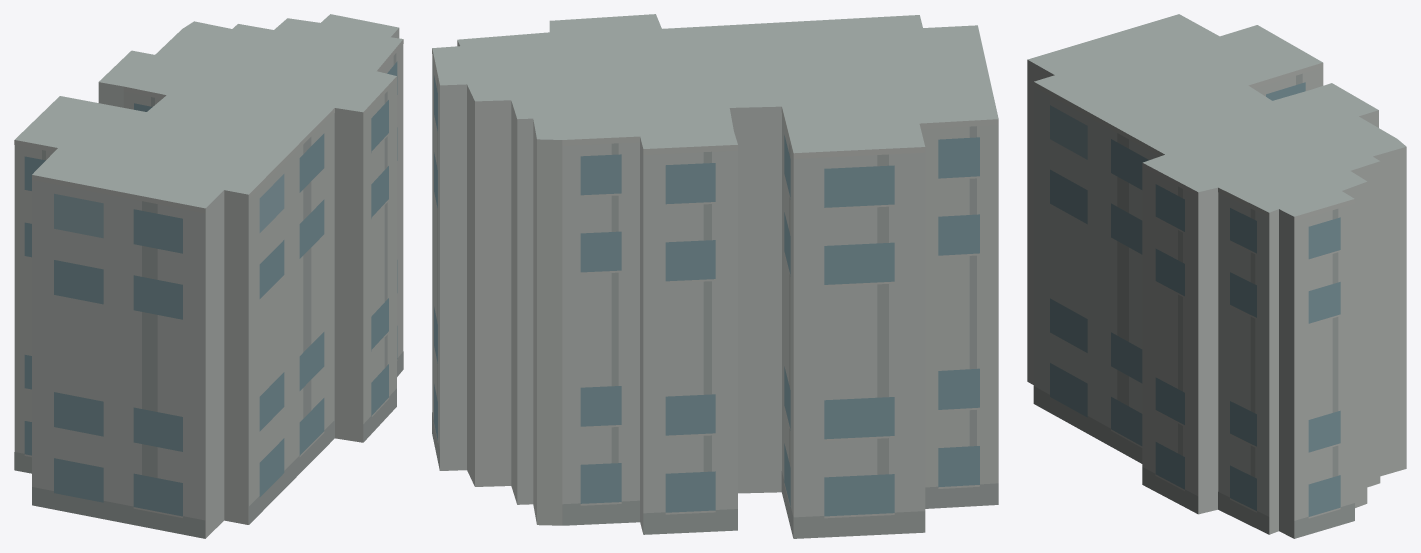
The model's file is survey-upis-32905480.glb.
3 views of the same model, side by side, from view 1: azimuth 30°, elevation 25°; view 2: azimuth 150°, elevation 25°; view 3: azimuth 270°, elevation 25° (orthographic). The views are drawn at different scales.
Visible parts, largest first — view 1: survey-upis-32905480.tmp; view 2: survey-upis-32905480.tmp; view 3: survey-upis-32905480.tmp.
Part boxes in pixels (x1=…): survey-upis-32905480.tmp: x1=14, y1=14, x2=403, y2=538; survey-upis-32905480.tmp: x1=432, y1=14, x2=998, y2=538; survey-upis-32905480.tmp: x1=1027, y1=14, x2=1406, y2=538.
Bounding box in the file's own units: 21.88 × 16.2 × 17.29.
